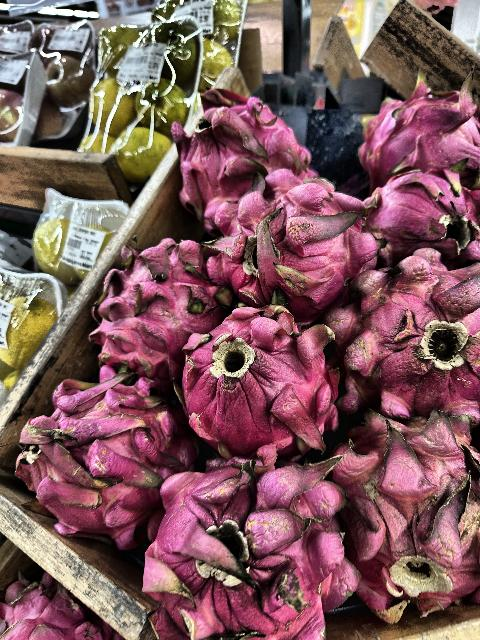buah-naga-matang: (152, 448, 354, 638), (330, 411, 480, 613), (12, 380, 178, 536), (334, 262, 480, 418), (180, 302, 336, 446), (214, 169, 370, 307), (165, 90, 311, 202), (98, 236, 206, 372), (354, 70, 480, 174), (366, 172, 480, 264), (4, 570, 106, 640)
